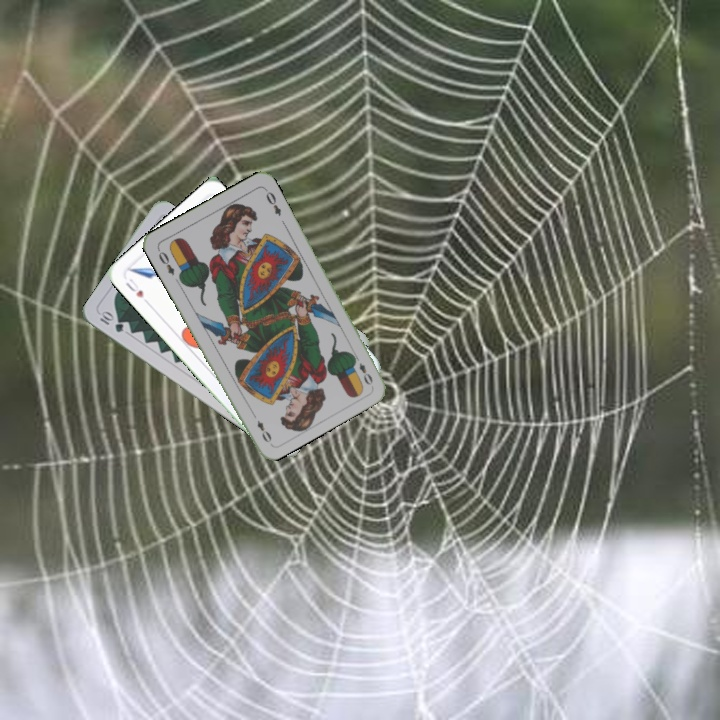EO: (349, 351, 375, 388), (153, 245, 177, 278)
G10: (96, 307, 126, 335)
HU: (122, 274, 146, 301)
